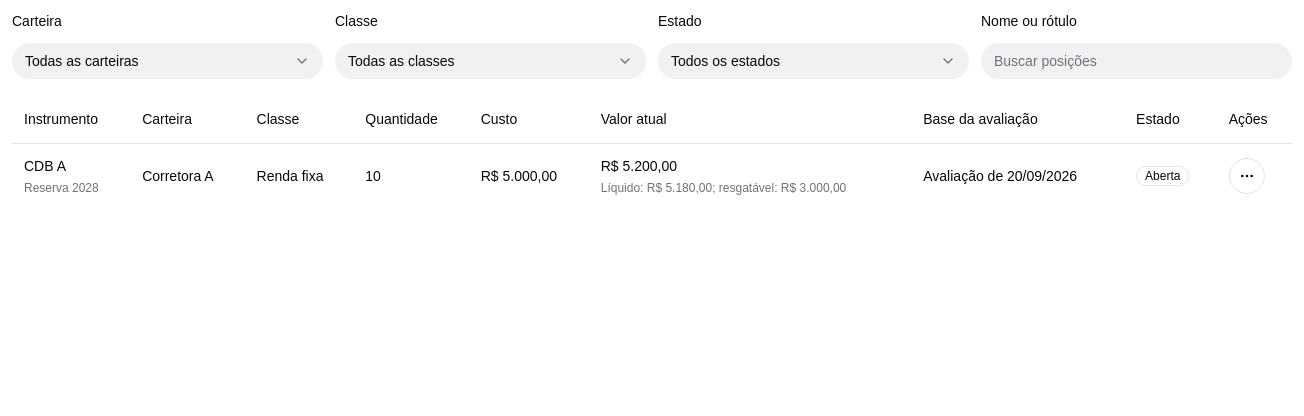
Test case: InvestmentPositionTable › offers sale, valuation and metadata actions for an active position
What coordinates should you click on to do the following:
click the button named "Ações da posição CDB A — Reserva 2028"
I would click on:
 (1247, 176)
Its box is left=1229, top=158, right=1265, bottom=194.
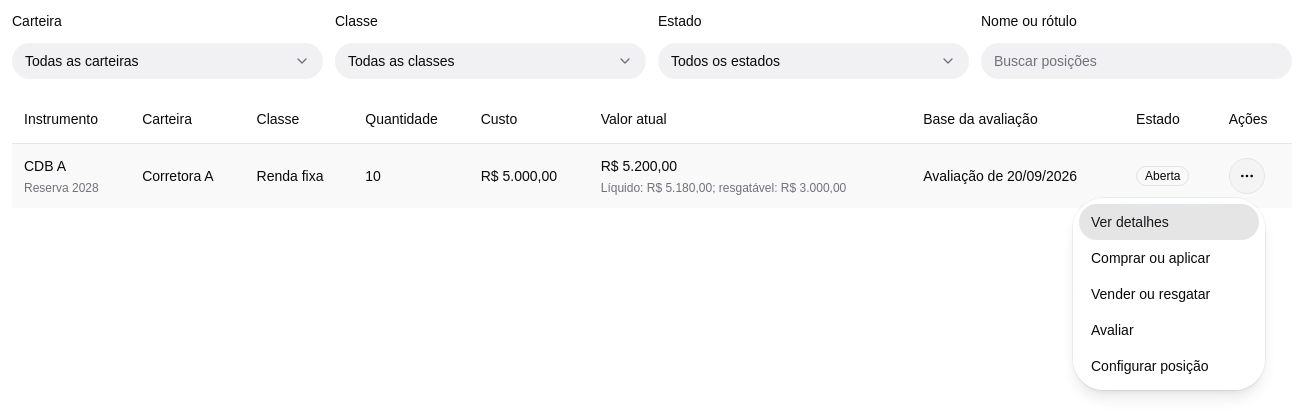
Expected: the menu item "Vender ou resgatar" is shown, left=1091, top=286, right=1210, bottom=302
Expected: the menu item "Avaliar" is shown, left=1091, top=322, right=1134, bottom=338
Expected: the menu item "Configurar posição" is shown, left=1091, top=358, right=1208, bottom=374
